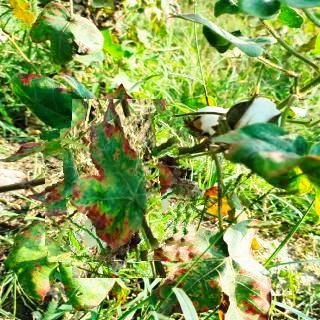blight: (45, 115, 192, 262)
